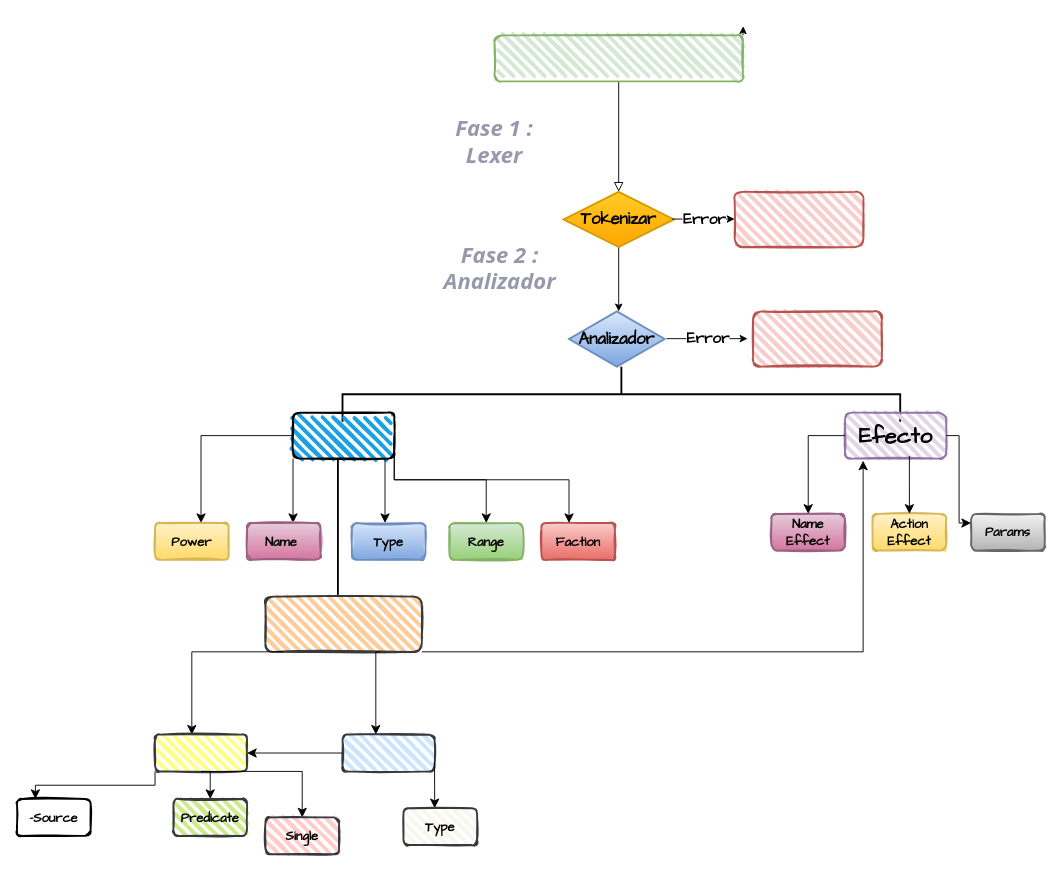
This 1061x873 diagram has some shape labels left out. The shapes that lost their labels are listed below. From the top down, each one's box as (x1, y1, x2, y2) in pixels, then its label:
(493, 34, 743, 82): Entrada del Código (Usuario)
(733, 190, 864, 247): No ejecución del Programa Token Invalido
(752, 310, 882, 367): No ejecución Error Sintactico
(292, 411, 395, 459): Carta
(264, 595, 422, 652): OnActivaction
(154, 733, 247, 772): Selector
(341, 733, 435, 772): PostAction
